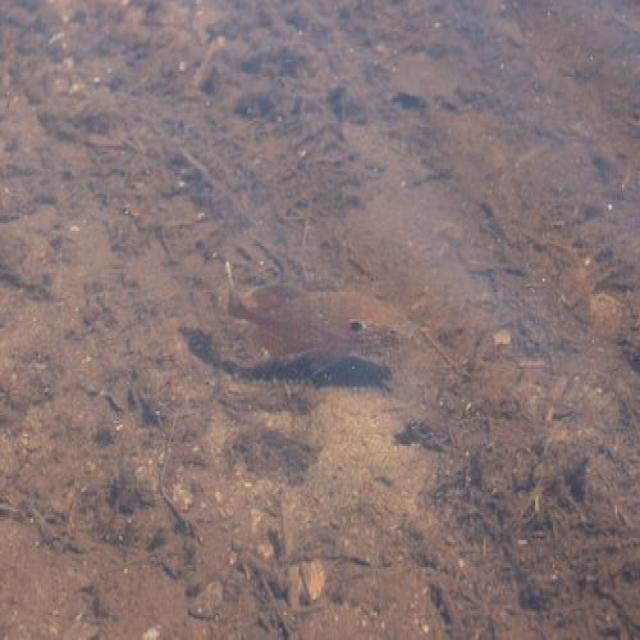Gunes Levregi: (216, 252, 420, 389)
